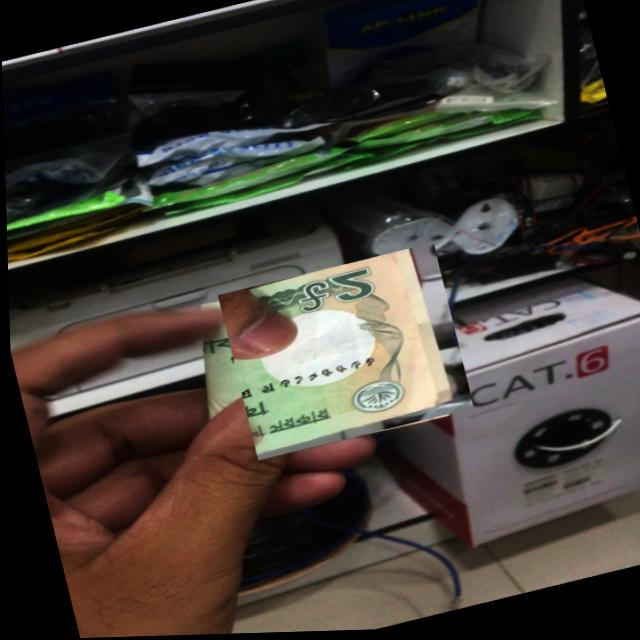Taka: (215, 245, 472, 463)
